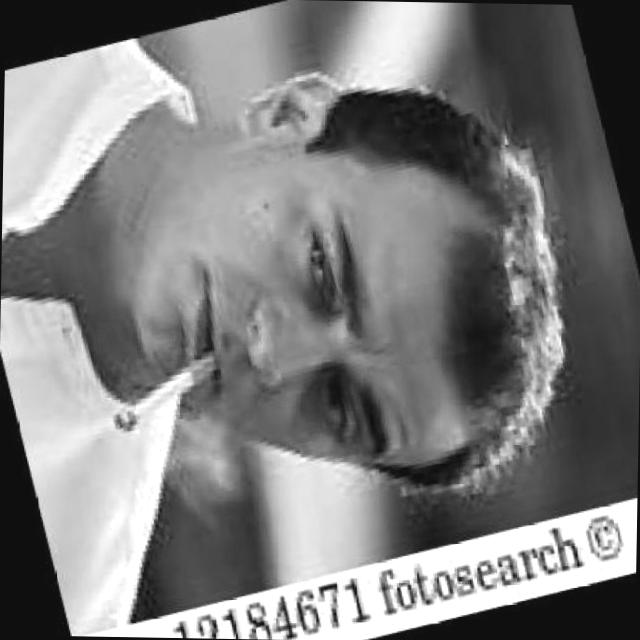cigarette: (98, 346, 228, 439)
